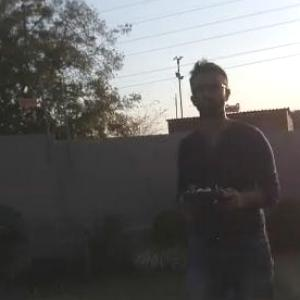follow: (165, 52, 286, 299)
